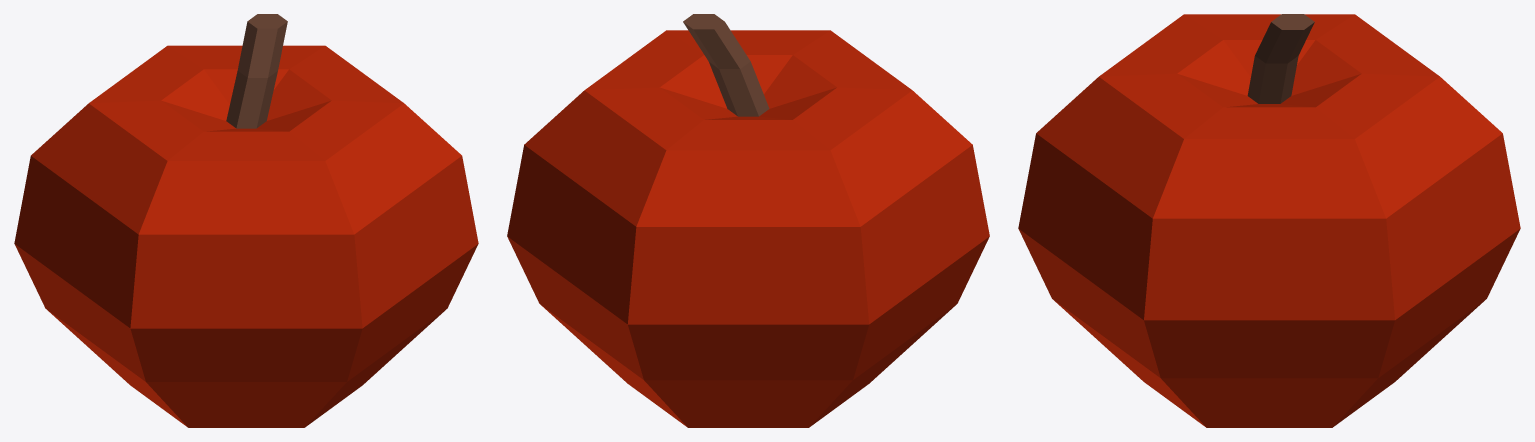
Rendered from Apple.fbx.
3 views of the same model, side by side, from view 1: azimuth 30°, elevation 25°; view 2: azimuth 150°, elevation 25°; view 3: azimuth 270°, elevation 25° (orthographic). The views are drawn at different scales.
Parts seen in each view (by area): view 1: Elma; view 2: Elma; view 3: Elma.
Boxes of the visible parts, bbox=[...] form: Elma: bbox=[14, 14, 478, 427]; Elma: bbox=[507, 14, 989, 427]; Elma: bbox=[1018, 14, 1520, 427].
Bounding box in the file's own units: 173 × 166 × 200.
